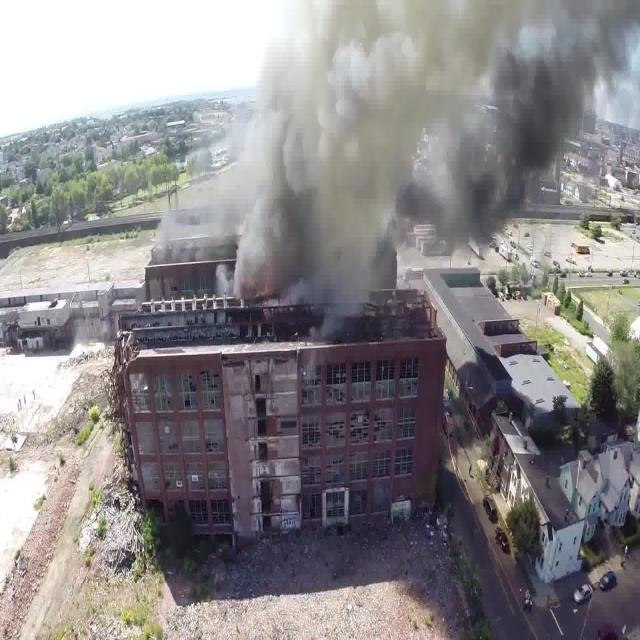smoke: (259, 6, 640, 272)
